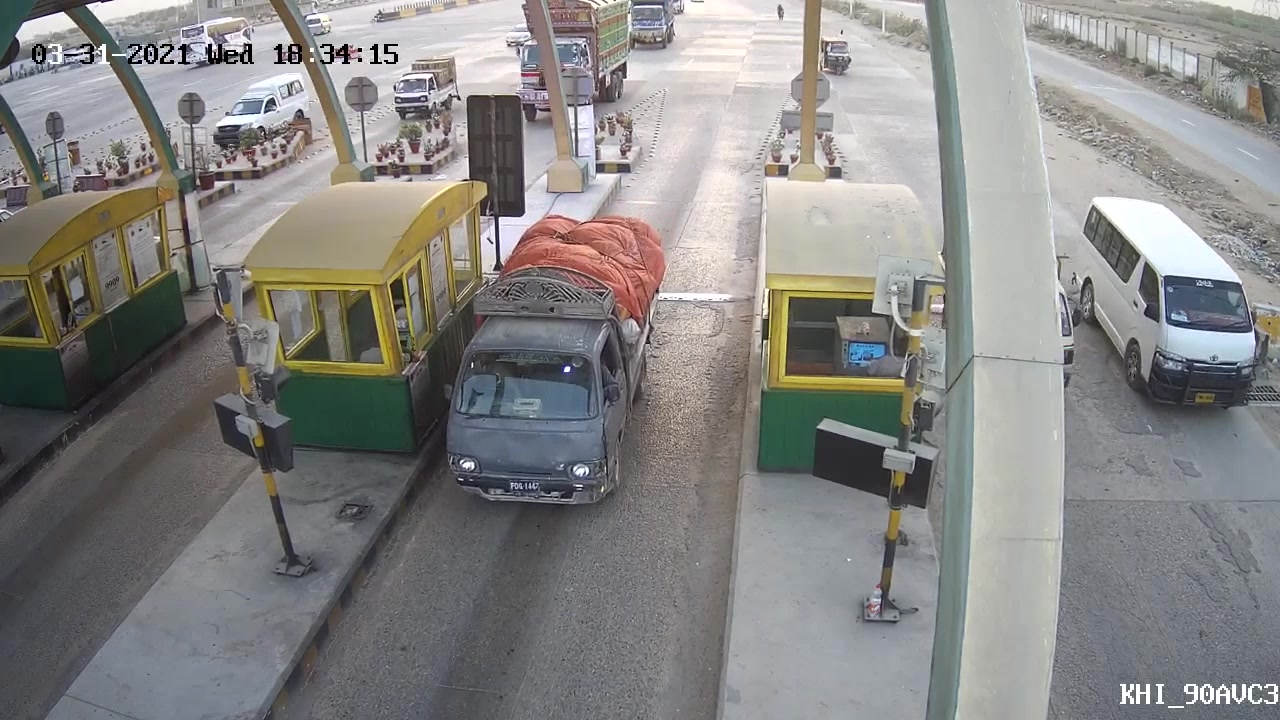F2: (435, 262, 653, 510)
